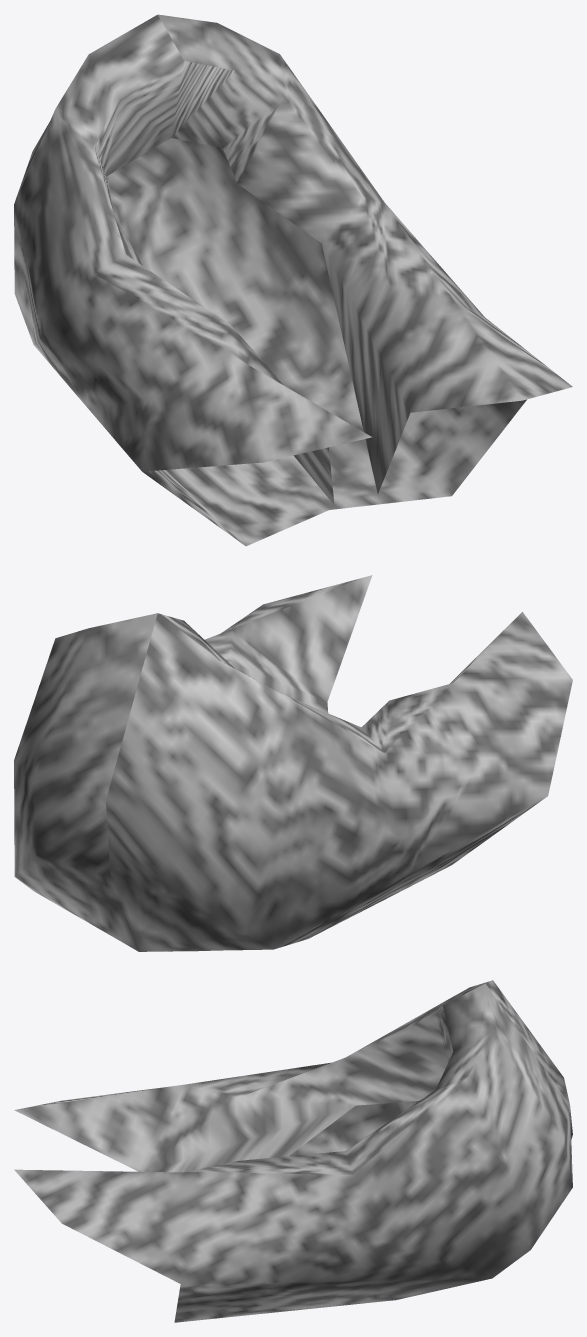
The model's file is Wig_Kate_Hair_LongBraid.fbx.
3 renders of one model, top to bottom at view 1: azimuth 30°, elevation 25°; view 2: azimuth 150°, elevation 25°; view 3: azimuth 270°, elevation 25°, orthographic. The views are drawn at different scales.
Visible parts, largest first — view 1: BoxOfJars003; view 2: BoxOfJars003; view 3: BoxOfJars003.
Part boxes in pixels (box(x1,y1,x2,y2)): BoxOfJars003: box(14, 14, 572, 546); BoxOfJars003: box(14, 575, 572, 951); BoxOfJars003: box(14, 980, 572, 1322).
Size of the model in its own units: 16.4 by 14.49 by 24.04.
